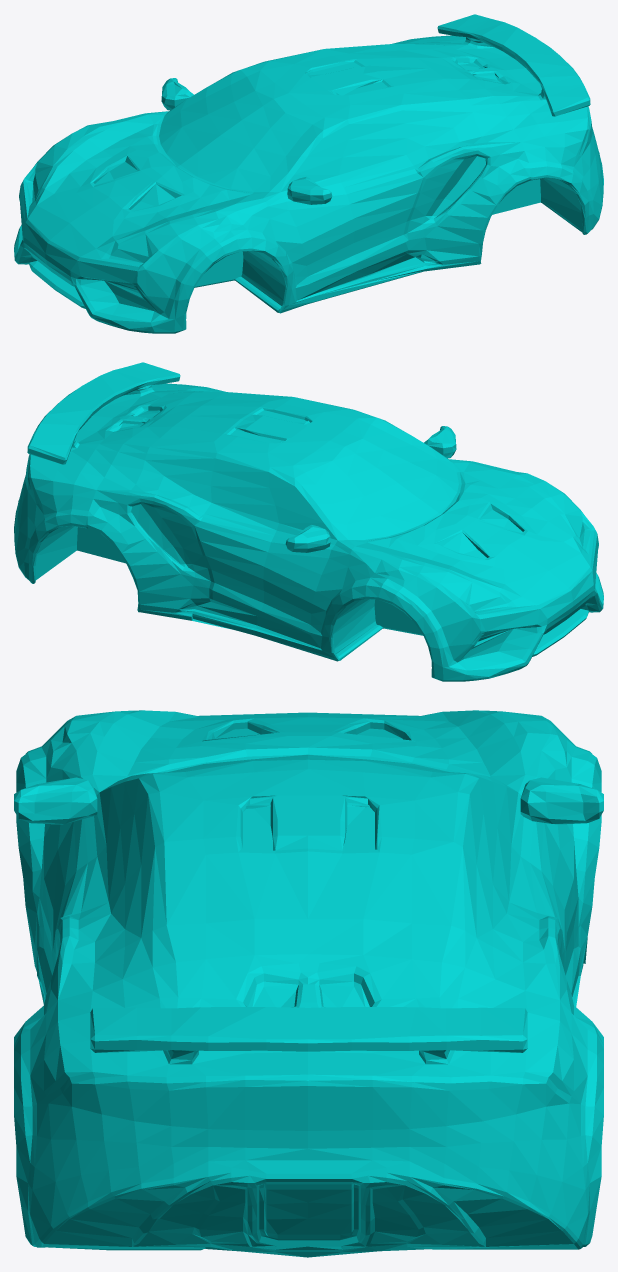
File: synth_car.glb
3 views of the same model, one above another, from view 1: azimuth 30°, elevation 25°; view 2: azimuth 150°, elevation 25°; view 3: azimuth 270°, elevation 25° (orthographic). The views are drawn at different scales.
Visible parts, largest first — view 1: Mesh1.0; view 2: Mesh1.0; view 3: Mesh1.0.
Boxes of the visible parts, x1,y1,x2,y2 form: Mesh1.0: (14,14,603,333); Mesh1.0: (14,362,603,681); Mesh1.0: (14,710,603,1257).
Size of the model in its own units: 5.05 by 1.4 by 2.64.
